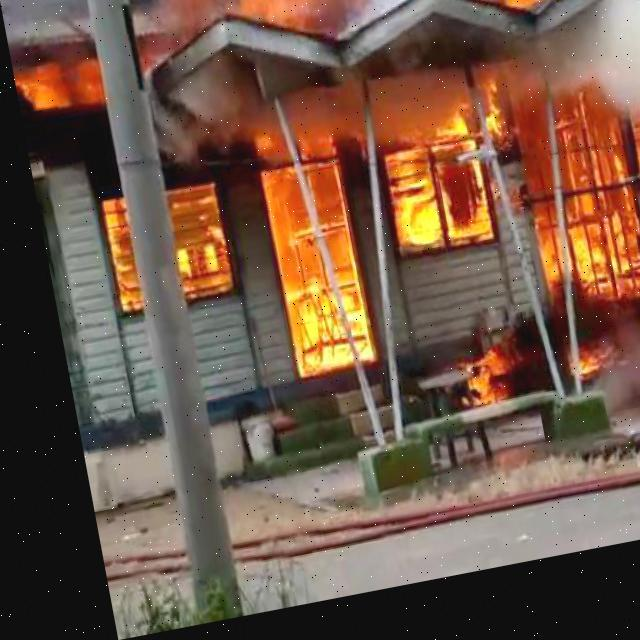Fire: (239, 53, 639, 387), (157, 0, 608, 74), (154, 186, 224, 303), (17, 48, 102, 110), (92, 199, 132, 318)
